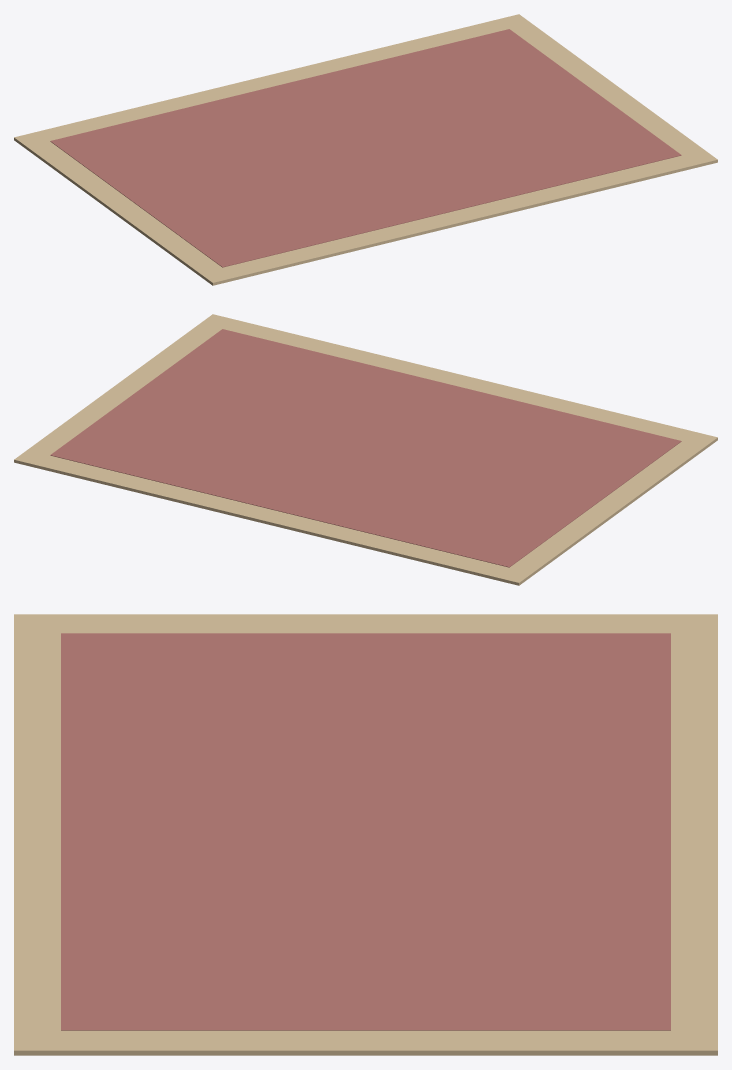
Rendered from rug.fbx.
3 views of the same model, one above another, from view 1: azimuth 30°, elevation 25°; view 2: azimuth 150°, elevation 25°; view 3: azimuth 270°, elevation 25° (orthographic). The views are drawn at different scales.
Parts seen in each view (by area): view 1: rug; view 2: rug; view 3: rug.
Boxes of the visible parts, x1,y1,x2,y2 form: rug: (14, 14, 717, 285); rug: (14, 314, 717, 585); rug: (14, 614, 717, 1055).
Size of the model in its own units: 2.2 by 0.014 by 1.5.
